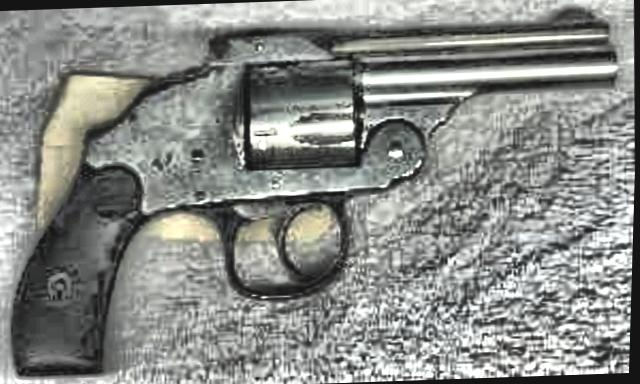pistol: (0, 4, 622, 378)
